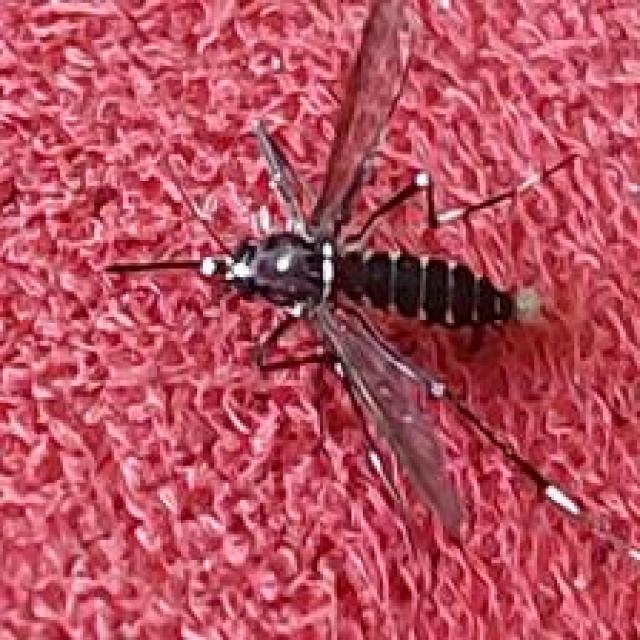Aedes albopictus: (101, 0, 590, 543)
